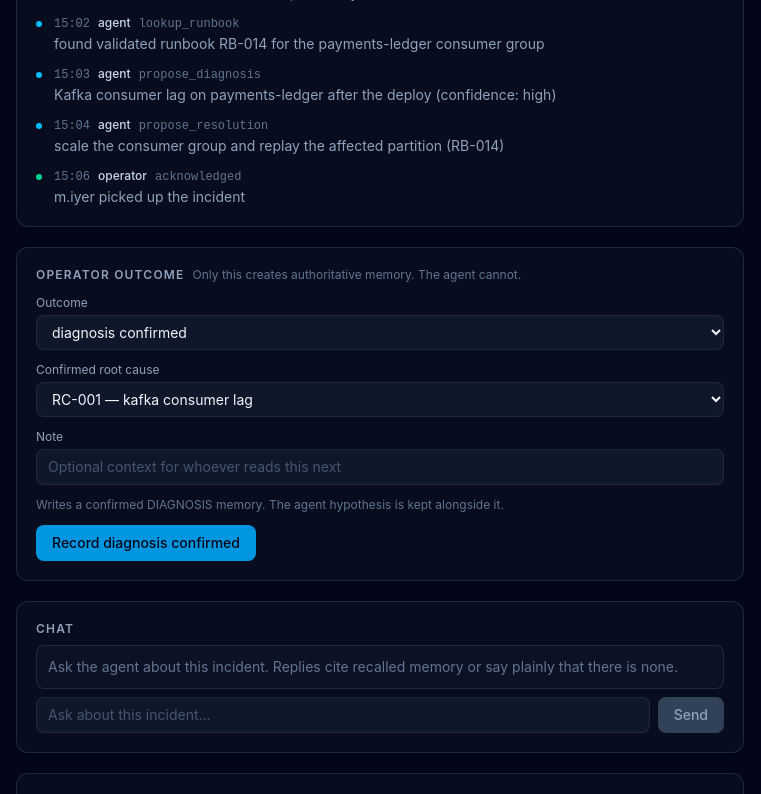
Test: operator feedback › shows a rejected outcome verbatim instead of failing silently
(page scrolled)
// Clear the prefilled root cause so the submission violates the contract.
Select "Select a root cause…" in the dropdown labelled "Confirmed root cause" at (380, 400), box [36,382,724,417]
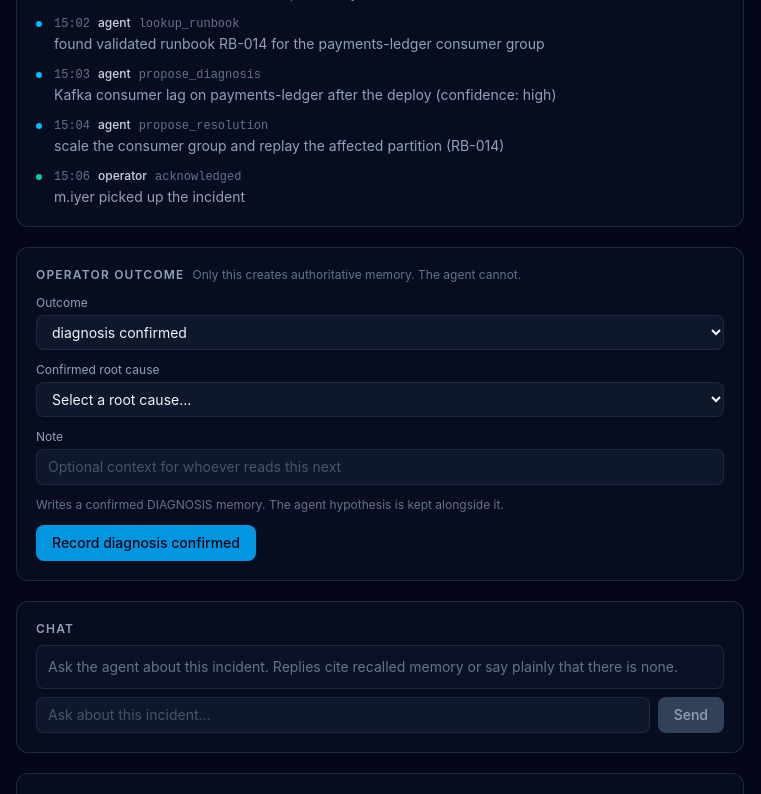
Submit the form labelled "Confirmed root cause", box [36,295,724,561]
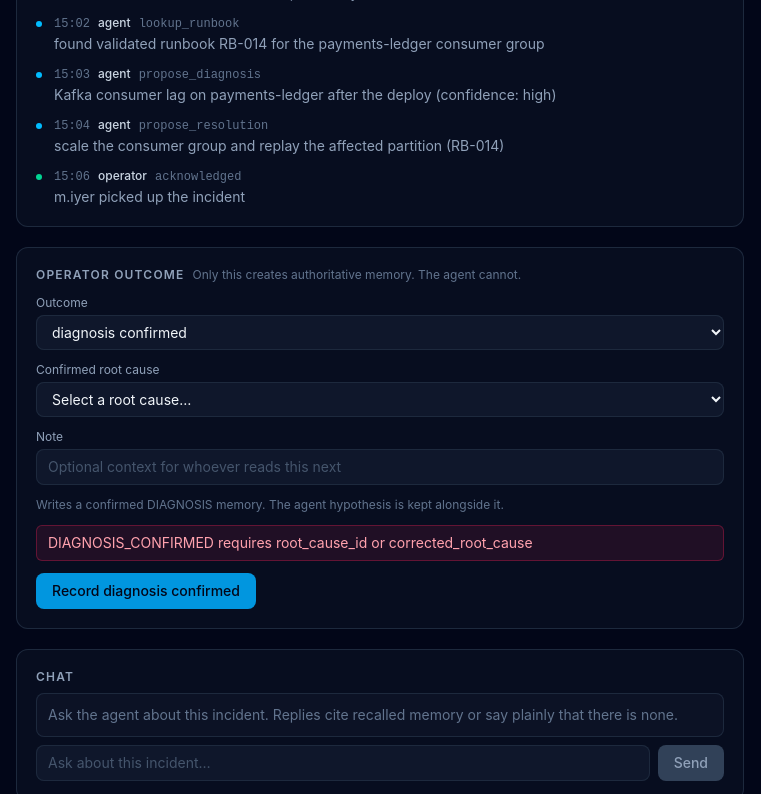
Now the message shows "requires root_cause_id or corrected_root_cause", box [48,534,533,551]
